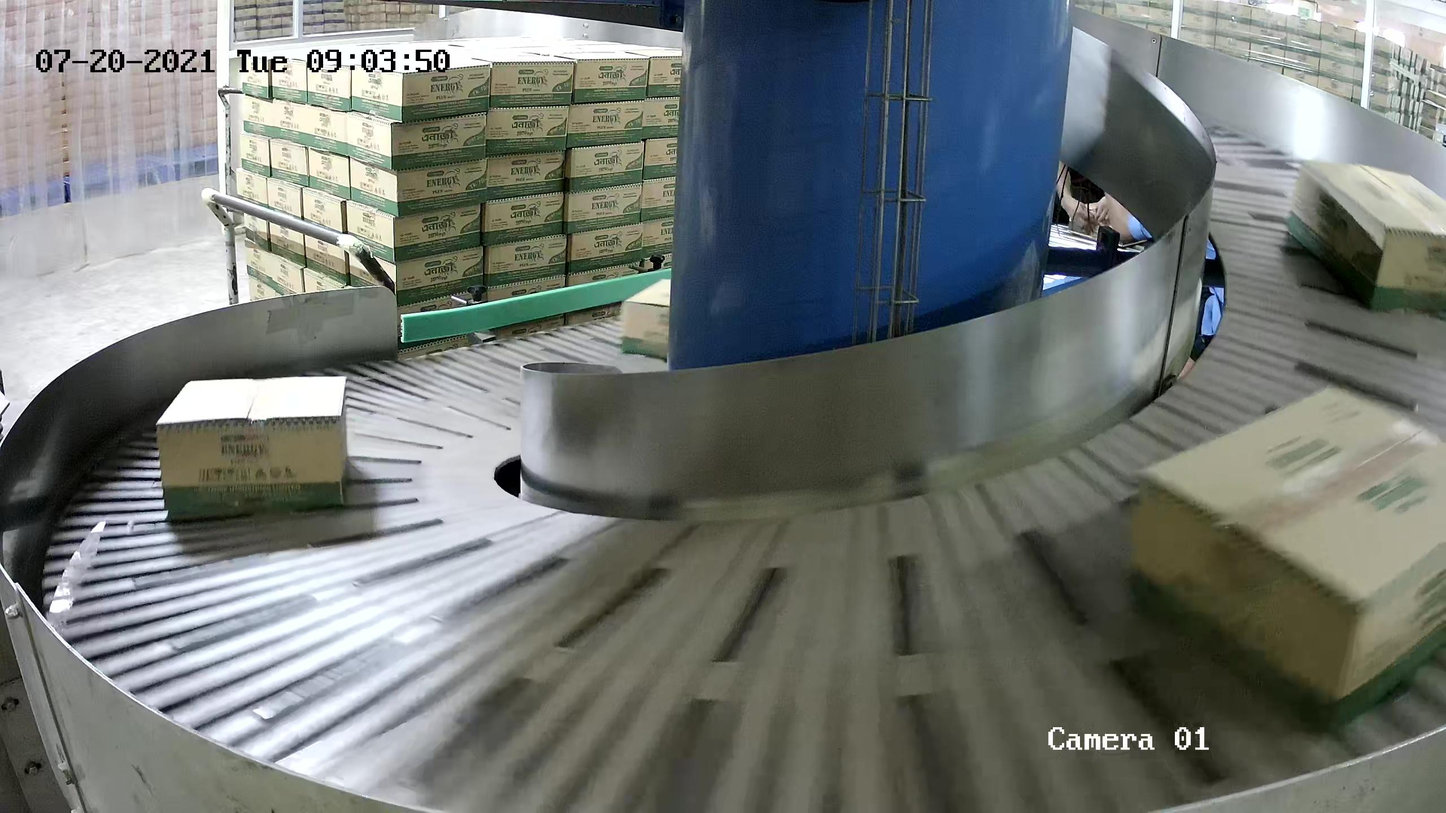Box: (1129, 383, 1446, 733), (154, 374, 348, 517), (1283, 159, 1446, 311), (620, 278, 671, 359)
